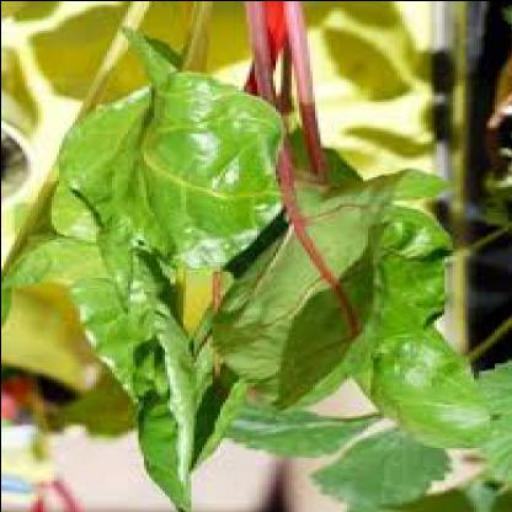biodegradable: (272, 170, 466, 450), (0, 75, 214, 326), (113, 28, 325, 272), (200, 130, 366, 404), (18, 2, 168, 292), (61, 180, 188, 508), (222, 2, 334, 364), (309, 423, 452, 504), (160, 2, 214, 176), (219, 405, 380, 457), (467, 362, 509, 474), (459, 478, 511, 510)
